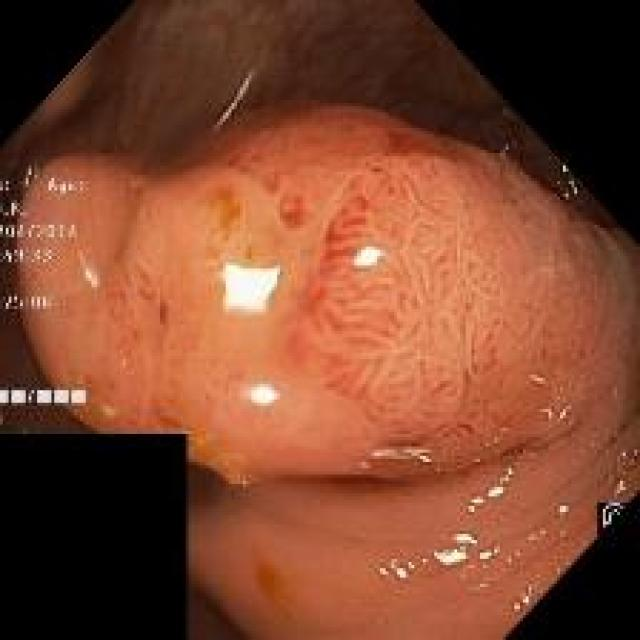Polyps: (18, 105, 640, 486)
